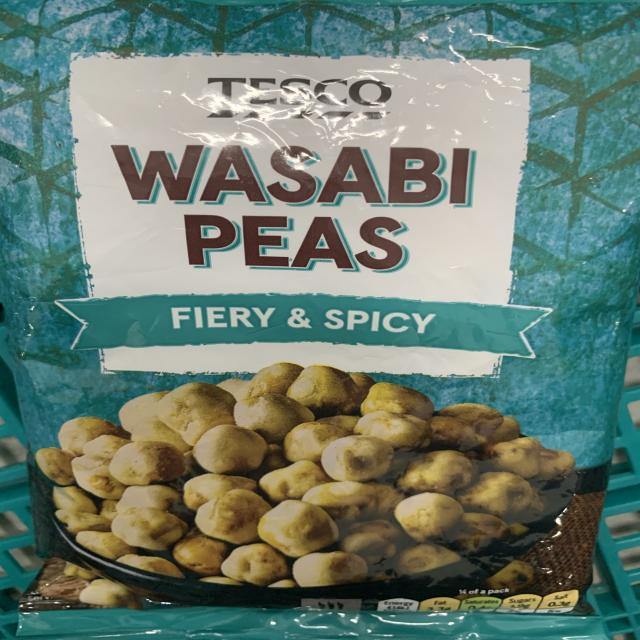object_name: (4, 0, 640, 634)
